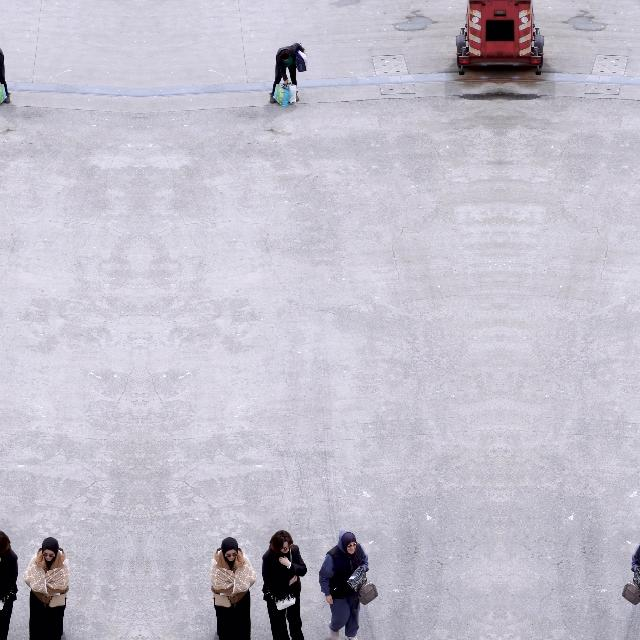person: (318, 530, 369, 640), (262, 530, 308, 640), (211, 536, 257, 640), (23, 536, 69, 640), (268, 42, 308, 104), (0, 530, 18, 640), (630, 530, 640, 640), (0, 42, 11, 104)
